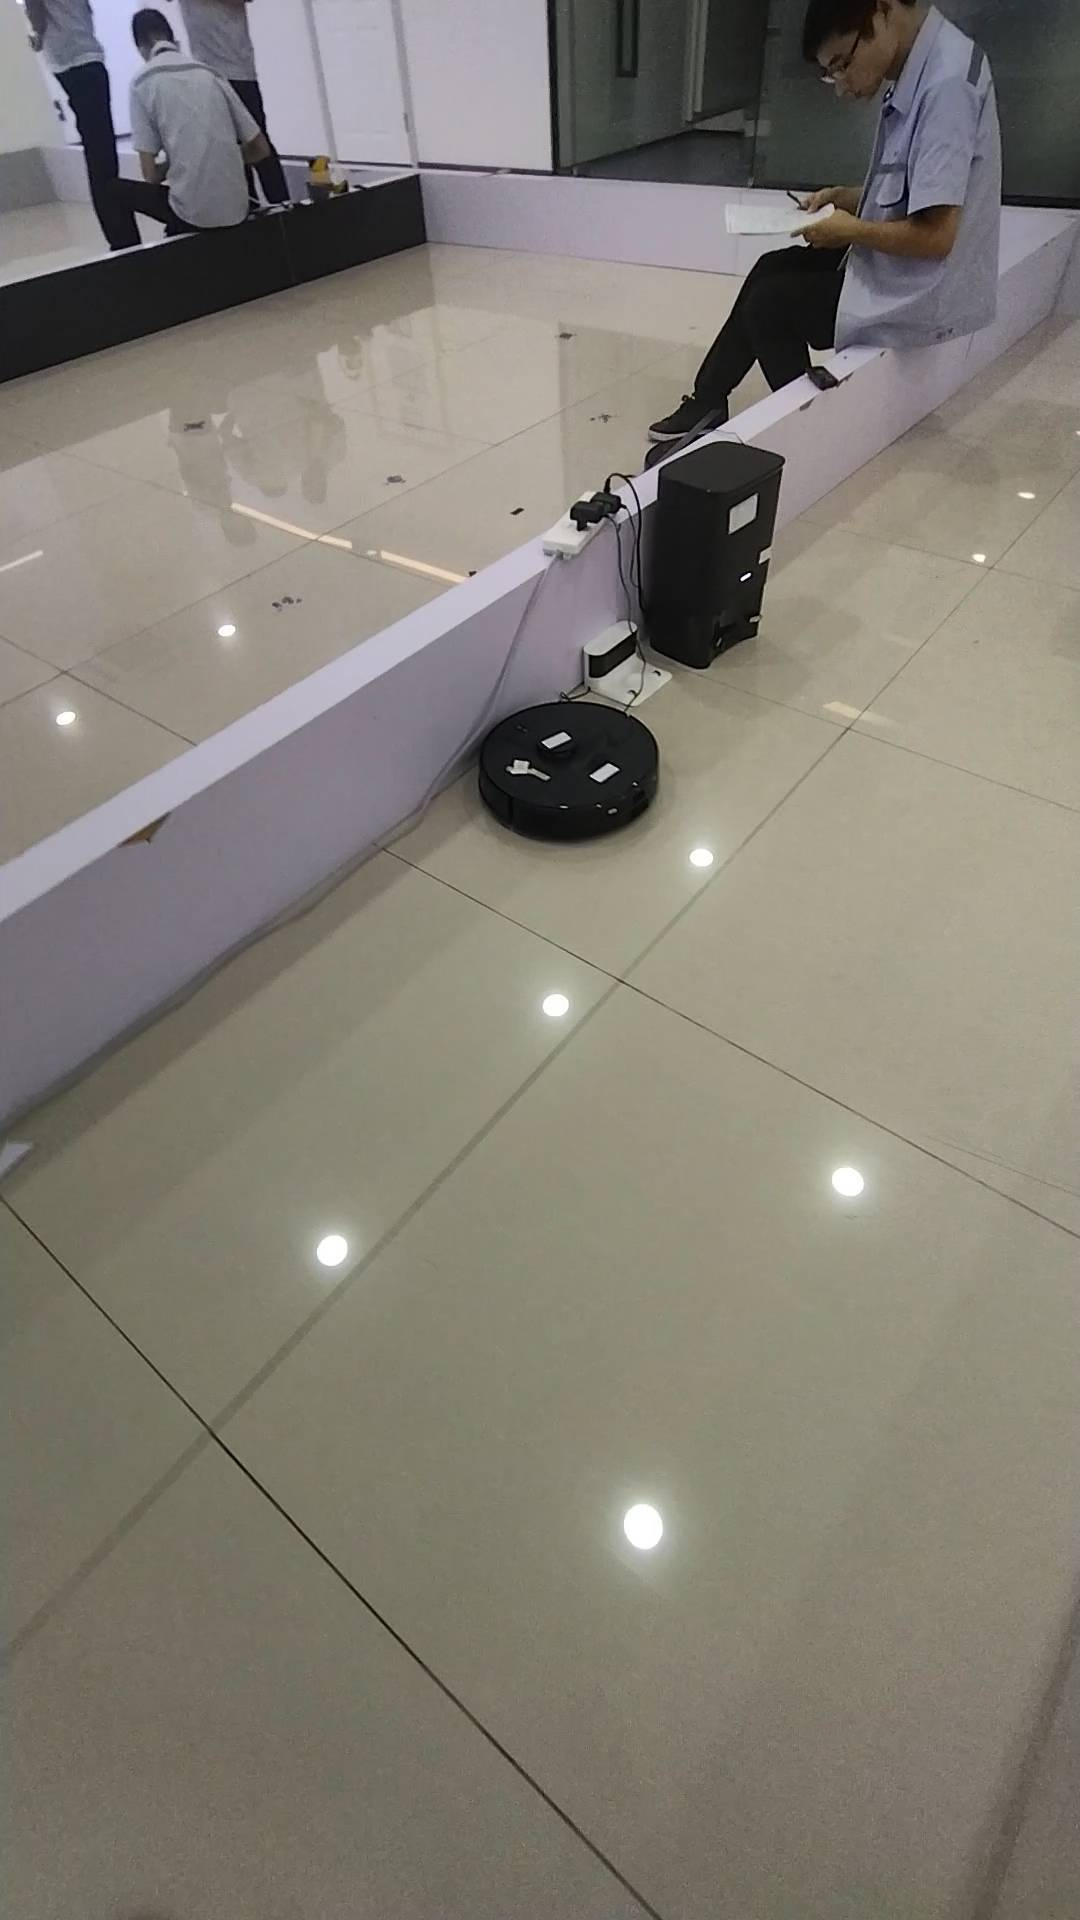dust collecting barrel: (657, 439, 787, 671)
recharge seat: (583, 617, 674, 702)
